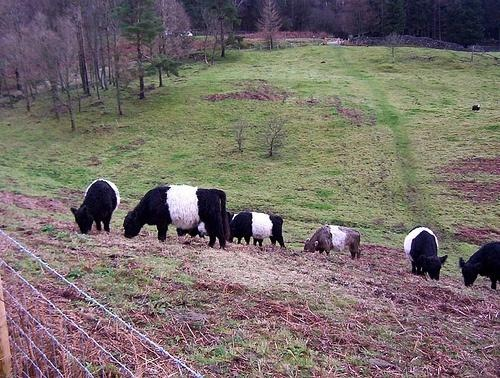cow: (123, 186, 227, 250), (70, 178, 120, 237), (405, 226, 449, 281), (304, 224, 366, 261), (231, 212, 287, 245), (464, 241, 500, 291)
